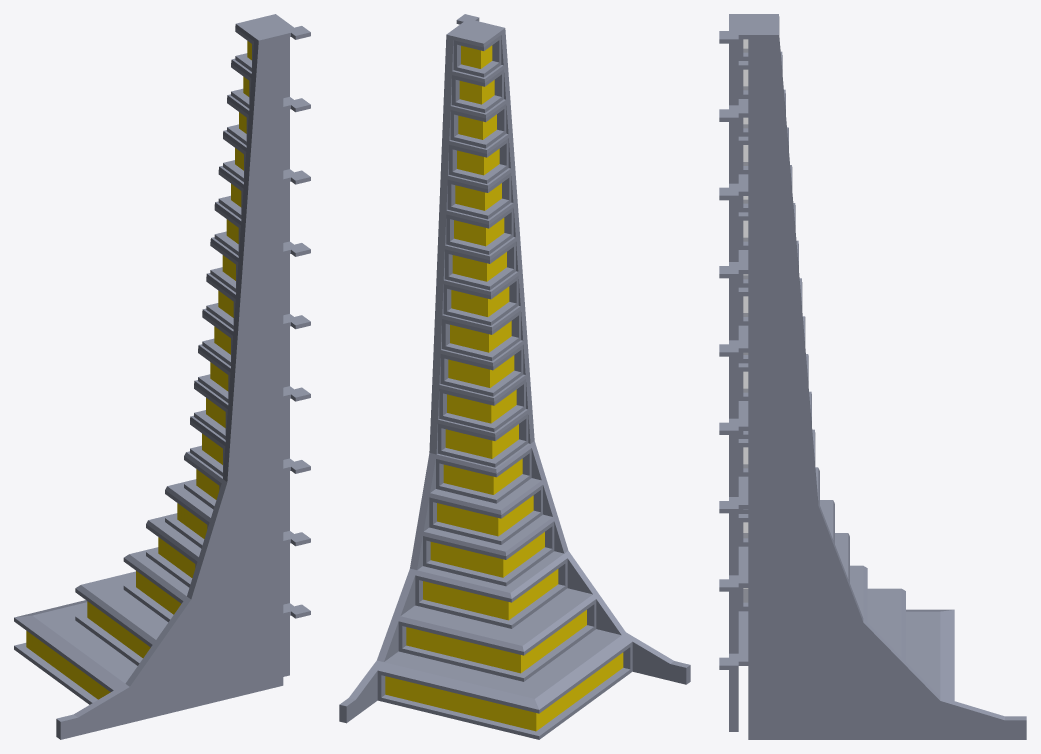
Rendered from building_ct-outer_v01.gltf.
3 views of the same model, side by side, from view 1: azimuth 30°, elevation 25°; view 2: azimuth 150°, elevation 25°; view 3: azimuth 270°, elevation 25° (orthographic). The views are drawn at different scales.
Parts seen in each view (by area): view 1: massing, capsule, window; view 2: massing, capsule, window; view 3: massing, capsule, window.
Boxes of the visible parts, x1,y1,x2,y2 form: massing: (14, 14, 310, 739); capsule: (14, 28, 253, 704); window: (26, 41, 251, 699); massing: (339, 14, 690, 723); capsule: (377, 35, 632, 739); window: (385, 45, 623, 731); massing: (719, 14, 1026, 739); capsule: (738, 39, 748, 611); window: (743, 39, 748, 602).
Size of what is drawn, in the model's own units: 32 by 81 by 32.
